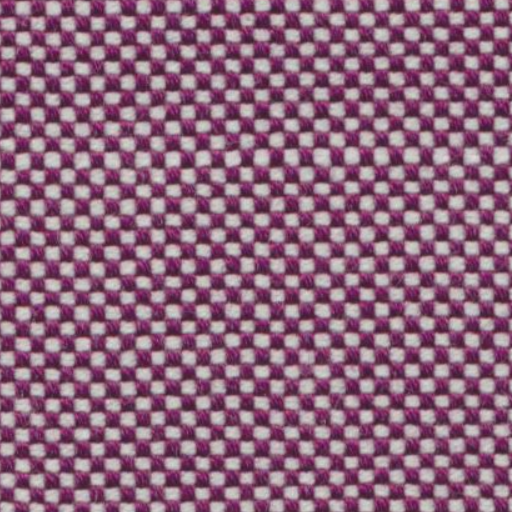TuoSha: (10, 122, 488, 206)
